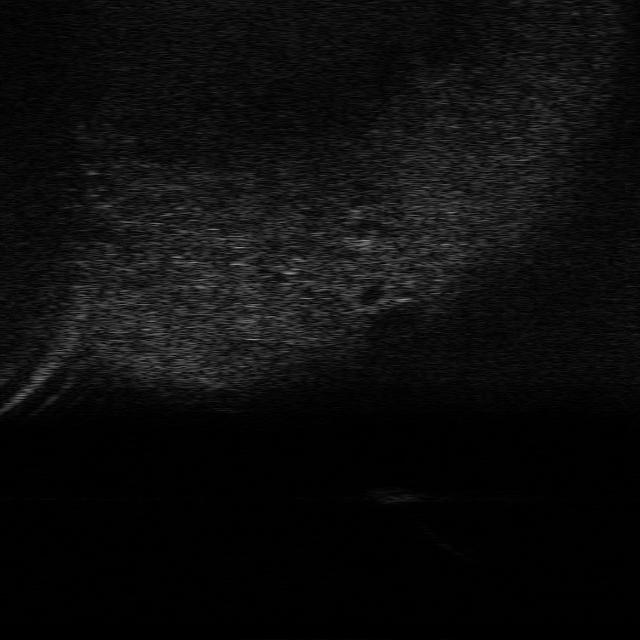cube: (366, 484, 419, 505)
